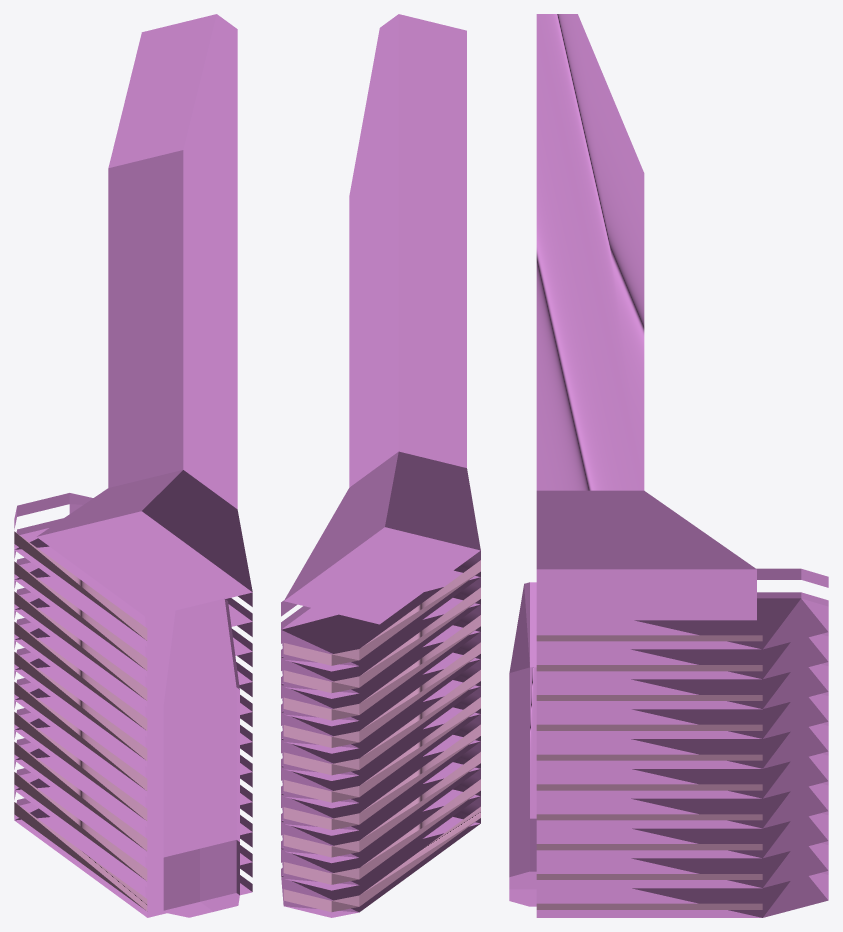
The model's file is building_commercial_001_a_habs_a.glb.
The picture shows the model from 3 angles, left to right: view 1: azimuth 30°, elevation 25°; view 2: azimuth 150°, elevation 25°; view 3: azimuth 270°, elevation 25°; orthographic projection. The views are drawn at different scales.
Bounding box in the file's own units: 22 × 173 × 58.18.
